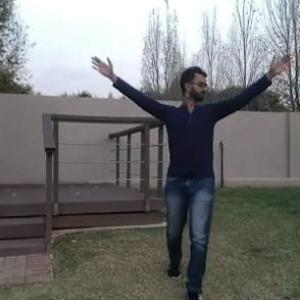takeoff: (93, 53, 295, 291)
